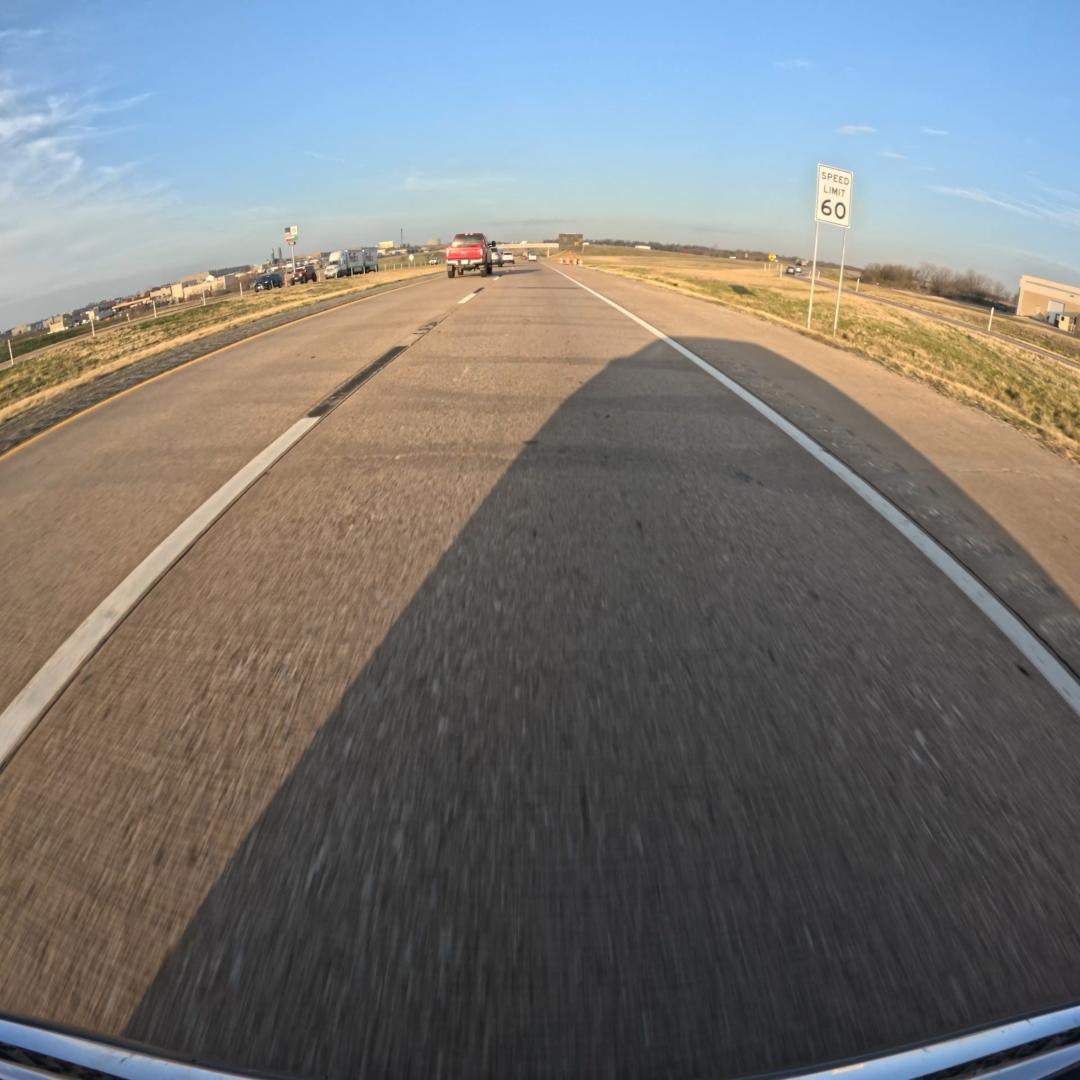lane0: (0, 266, 1080, 1080)
lane1: (0, 275, 492, 770)
